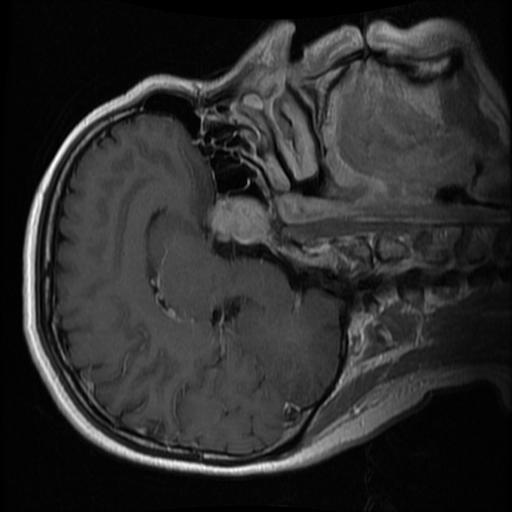pituitary tumour: (209, 197, 268, 243)
